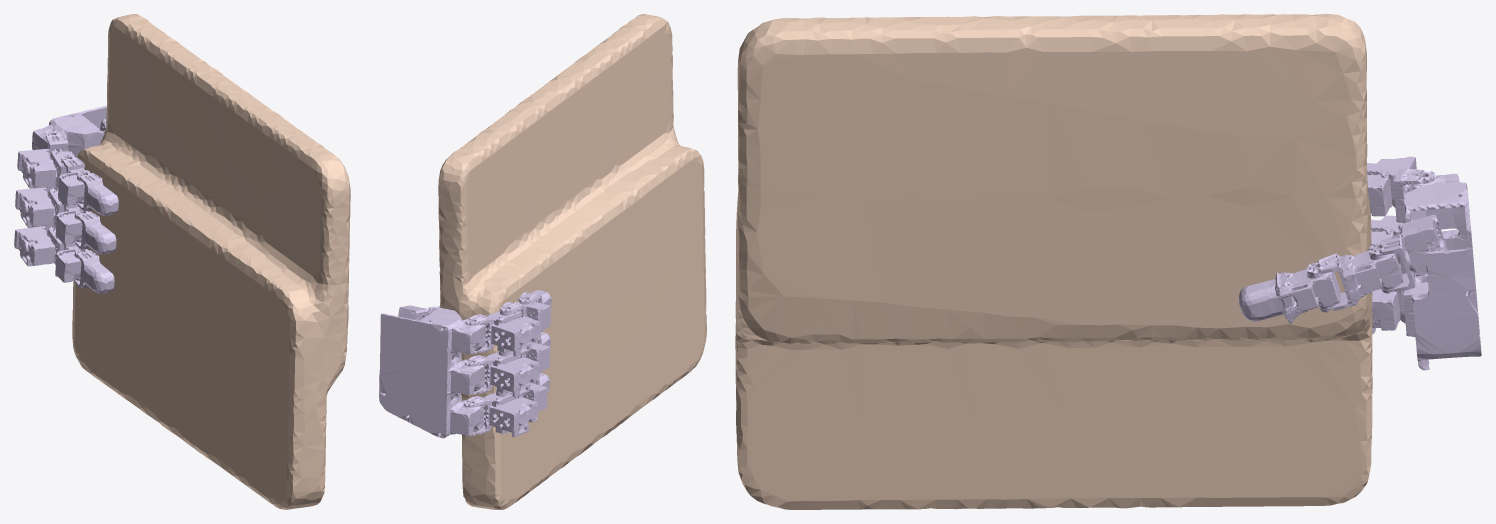
The picture shows the model from 3 angles, left to right: view 1: azimuth 30°, elevation 25°; view 2: azimuth 150°, elevation 25°; view 3: azimuth 270°, elevation 25°; orthographic projection. The views are drawn at different scales.
Parts seen in each view (by area): view 1: world, LEAP_hand; view 2: world, LEAP_hand; view 3: world, LEAP_hand.
Boxes of the visible parts, box(x1,y1,x2,y2) form: world: box(72, 14, 350, 509); LEAP_hand: box(14, 106, 118, 293); world: box(438, 14, 706, 509); LEAP_hand: box(379, 290, 551, 438); world: box(735, 14, 1372, 509); LEAP_hand: box(1239, 156, 1481, 370).
Size of the model in its own units: 0.1503 by 0.396 by 0.5358.
